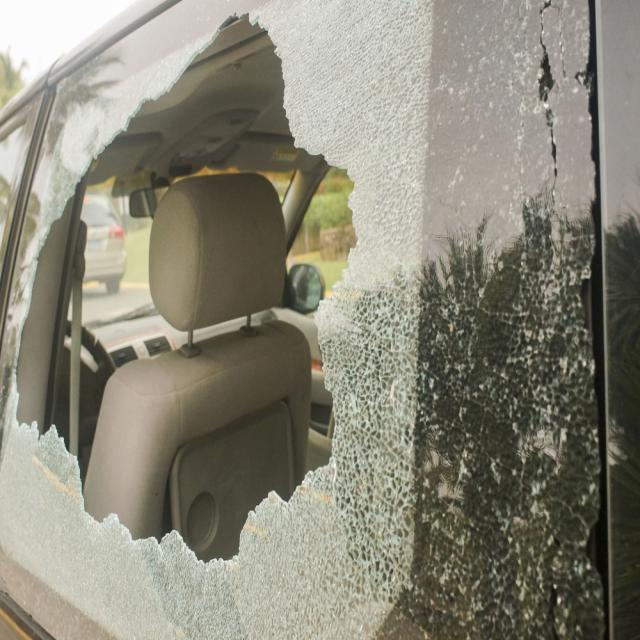glass shatter: (0, 0, 607, 640)
